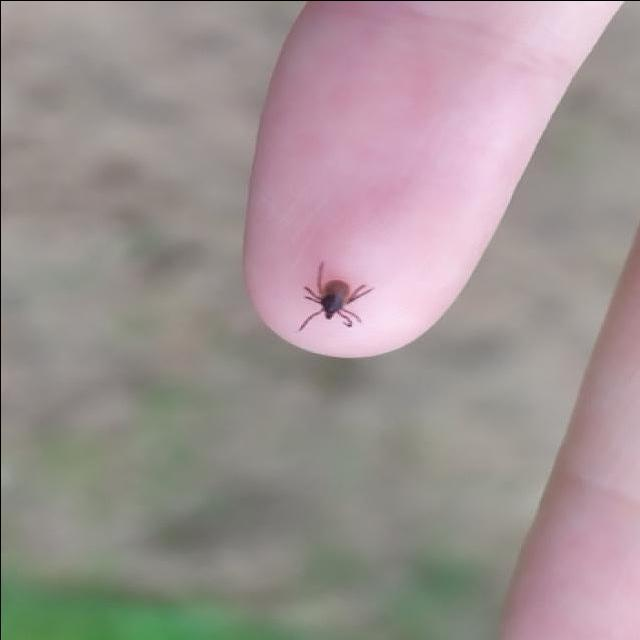Ixodes Ricinus-F: (296, 262, 375, 330)
